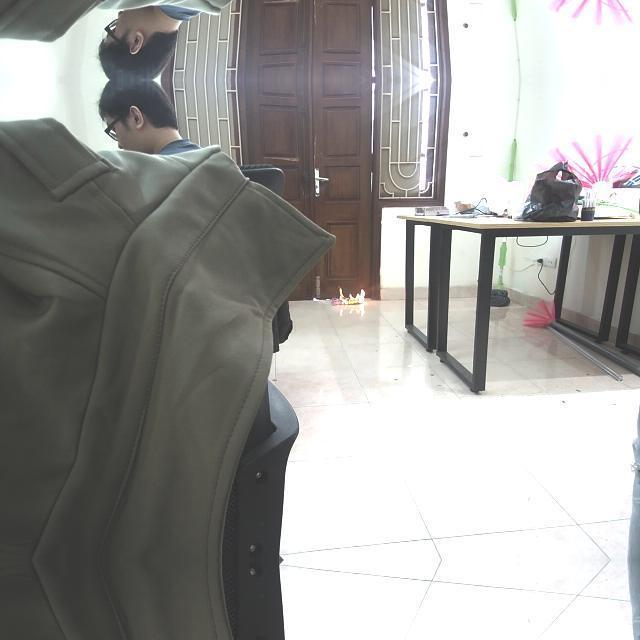smoke: (336, 286, 364, 302)
